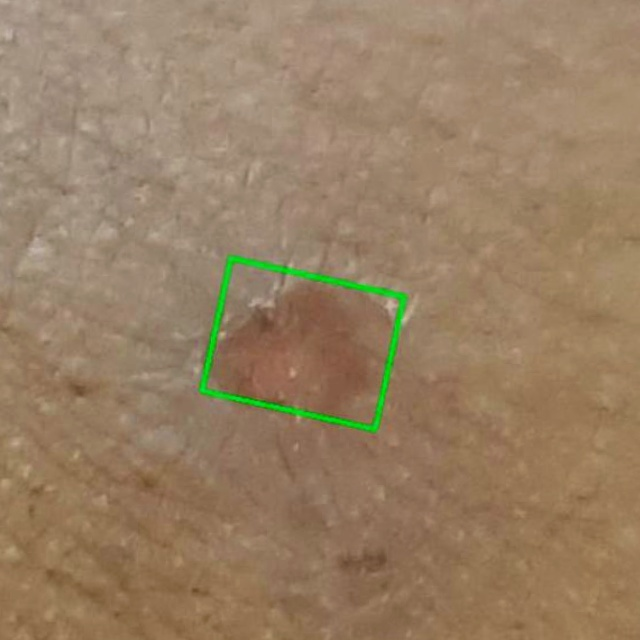Atopic Dermatitis: (200, 259, 403, 430)
